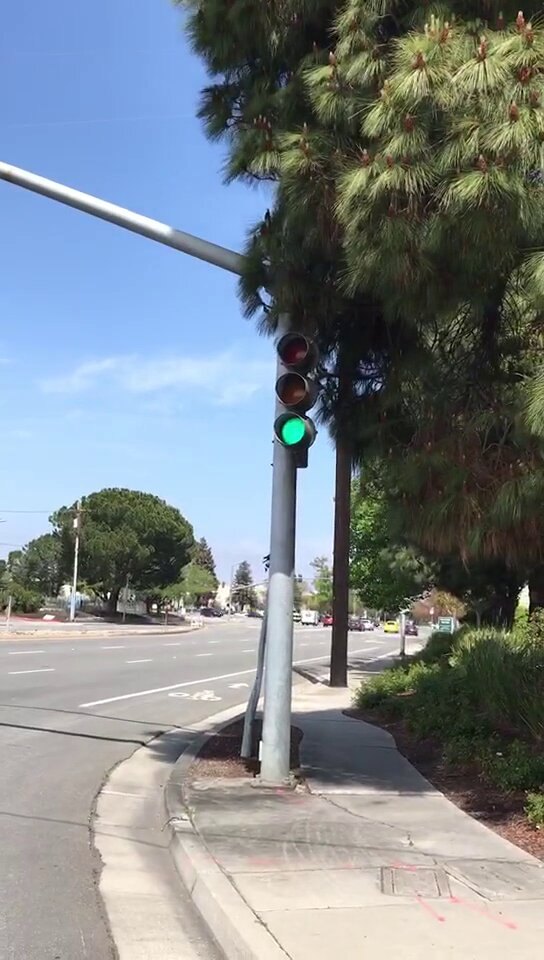green_light: (277, 330, 312, 445)
